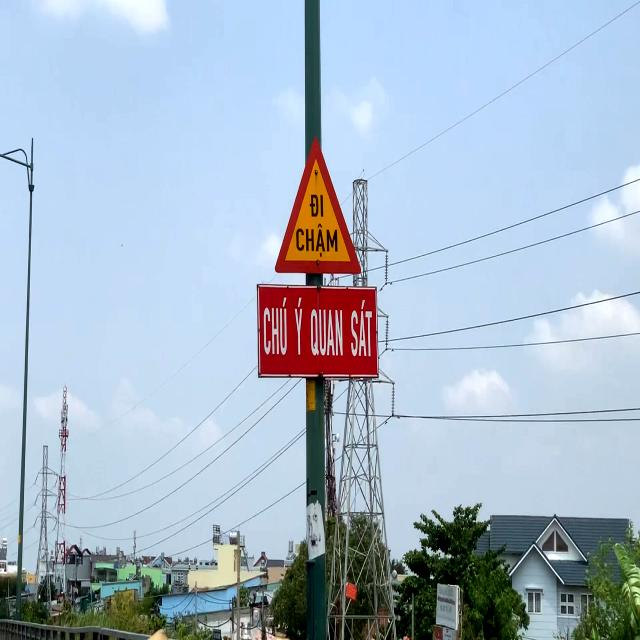W.245a: (274, 135, 362, 276)
